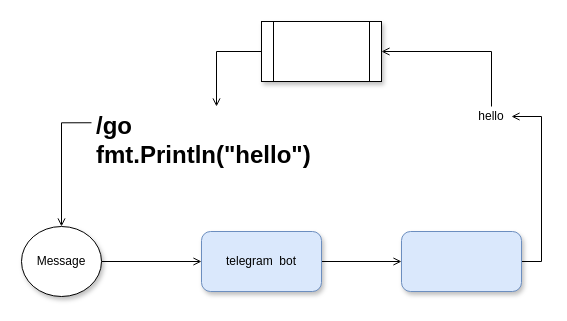
Image size: 567x321. Some labels were removed from this diagram. The centre of each missing label's shape, as x and y in pixels:
"golang playground" goes at point (462, 262).
"User" goes at point (322, 52).
